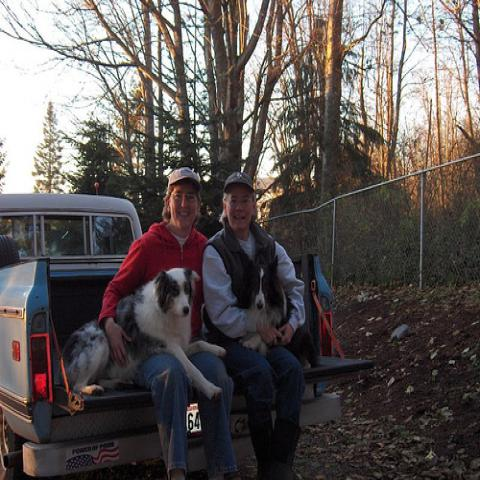truck: (0, 194, 371, 480)
